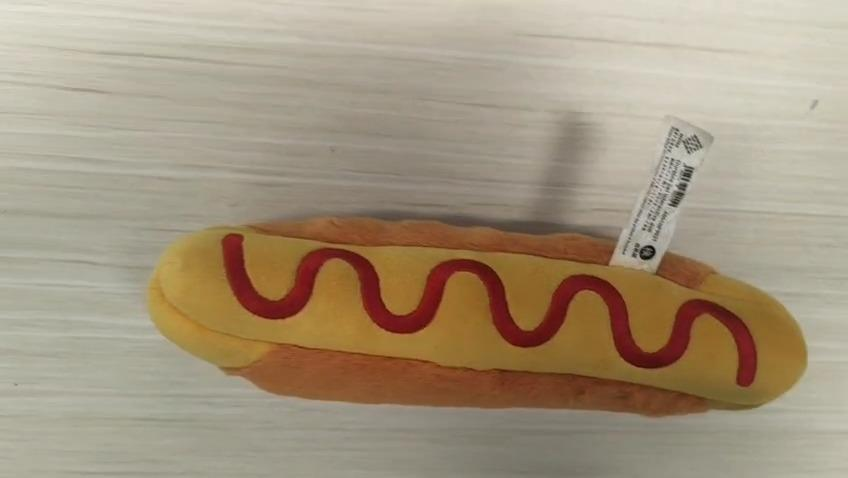hotdog: (147, 214, 808, 416)
